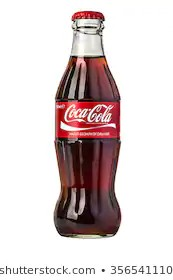coke-glass-bottle: (51, 11, 124, 241)
